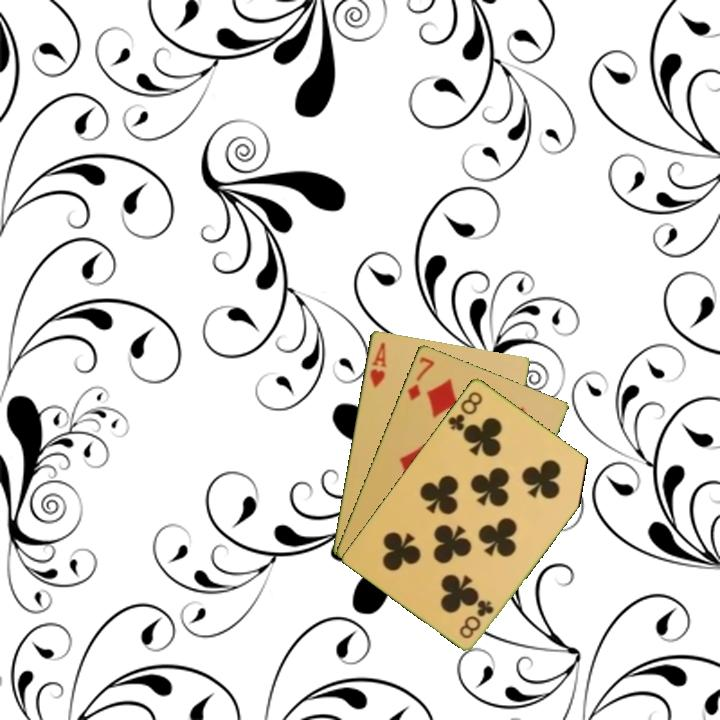7d: (404, 353, 437, 403)
8c: (444, 387, 485, 434), (455, 596, 497, 641)
Ah: (366, 338, 389, 390)
